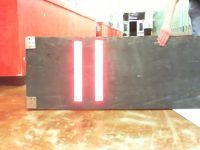switch: (94, 40, 104, 102), (73, 41, 83, 102)
